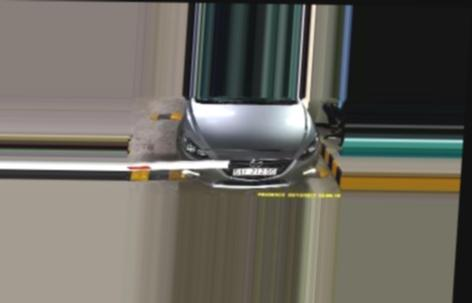License_Plate: (228, 164, 278, 178)
